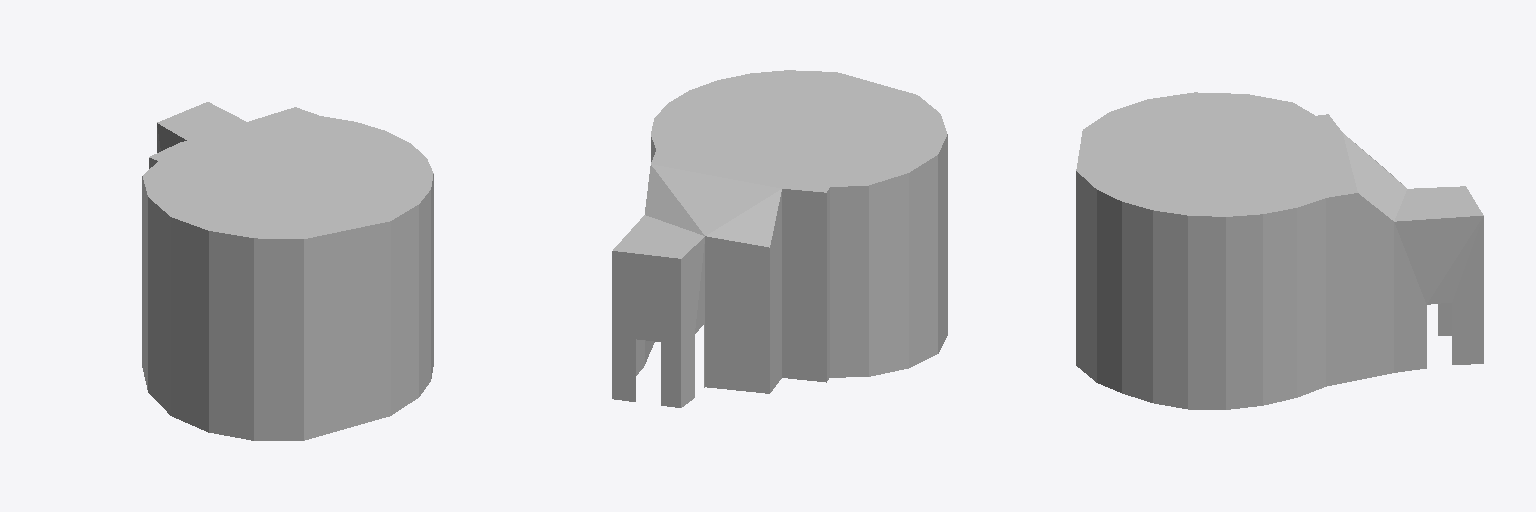
File: ATB1.obj
3 views of the same model, side by side, from view 1: azimuth 30°, elevation 25°; view 2: azimuth 150°, elevation 25°; view 3: azimuth 270°, elevation 25° (orthographic).
Visible parts, largest first — view 1: Areas:building.002; view 2: Areas:building.002; view 3: Areas:building.002.
Boxes of the visible parts, box(x1,y1,x2,y2) form: Areas:building.002: box(142, 102, 433, 440); Areas:building.002: box(612, 70, 947, 407); Areas:building.002: box(1076, 92, 1483, 409).
Bounding box in the file's own units: 63.34 × 48.02 × 87.55.